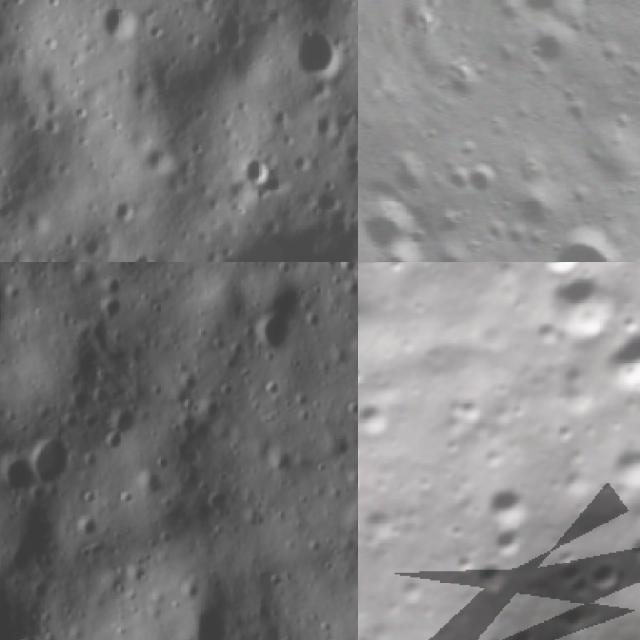crater: (170, 198, 358, 262), (539, 262, 639, 355), (476, 460, 554, 538), (598, 304, 640, 411), (541, 217, 636, 262), (284, 21, 348, 84), (595, 426, 640, 506), (358, 385, 409, 449), (523, 22, 581, 78), (358, 194, 411, 254), (582, 547, 636, 603), (31, 430, 79, 492), (457, 152, 510, 205), (471, 549, 522, 601), (488, 514, 539, 565), (515, 183, 564, 235), (445, 382, 494, 433), (134, 136, 183, 183), (95, 2, 143, 45), (252, 314, 294, 362), (0, 452, 38, 503), (366, 234, 435, 262), (528, 262, 604, 287), (240, 148, 280, 194), (515, 0, 573, 29), (106, 189, 142, 229), (112, 400, 150, 434), (618, 515, 640, 572), (358, 455, 376, 502), (336, 134, 358, 169), (102, 296, 128, 325), (127, 242, 164, 262), (104, 274, 131, 300), (98, 428, 126, 453), (12, 630, 46, 640)
